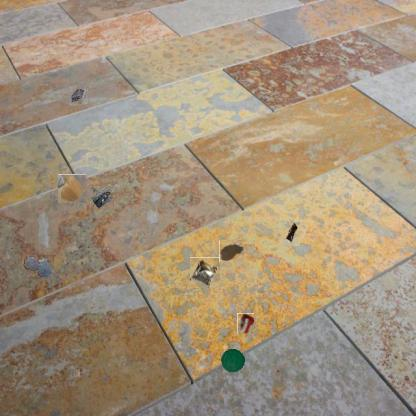dirty: (190, 257, 220, 288), (58, 175, 87, 203), (219, 347, 247, 375), (90, 186, 114, 210), (68, 85, 88, 105), (284, 222, 300, 246), (237, 313, 254, 334)
liquid: (22, 255, 54, 279), (219, 240, 244, 262)
